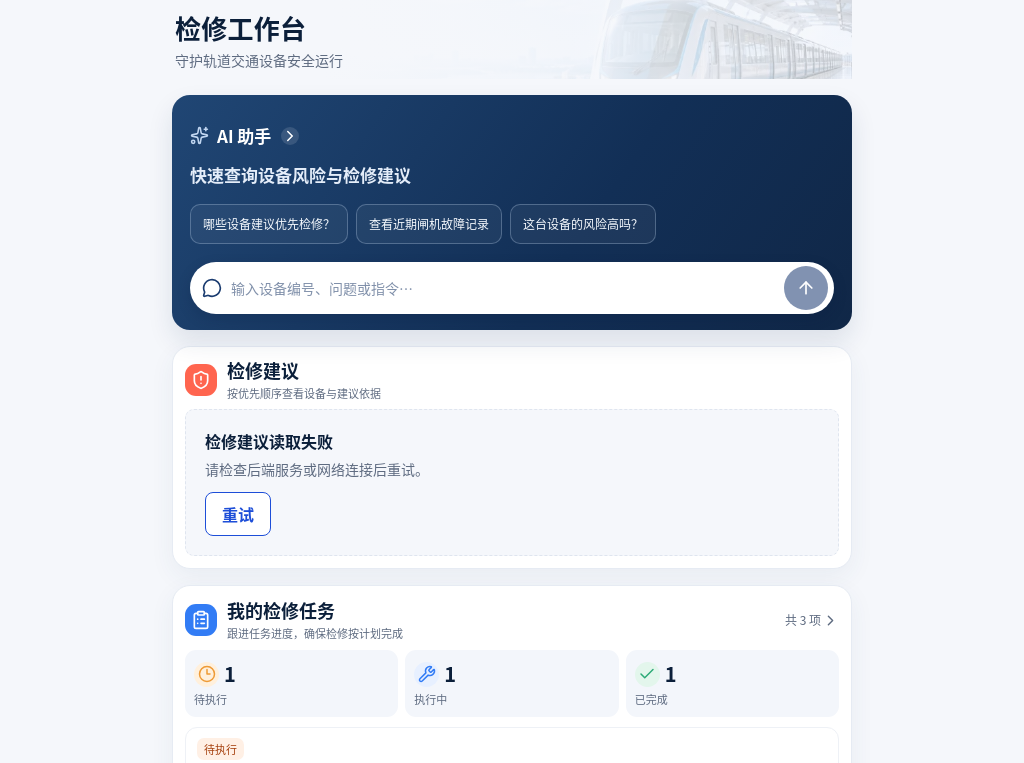
shows read failure and lets the user retry
This screenshot has width=1024, height=763.
Expected: the text "检修建议读取失败" is shown, [205,429,333,453]
Click the button "重试" at coordinates (238, 514), box [205,492,271,536]
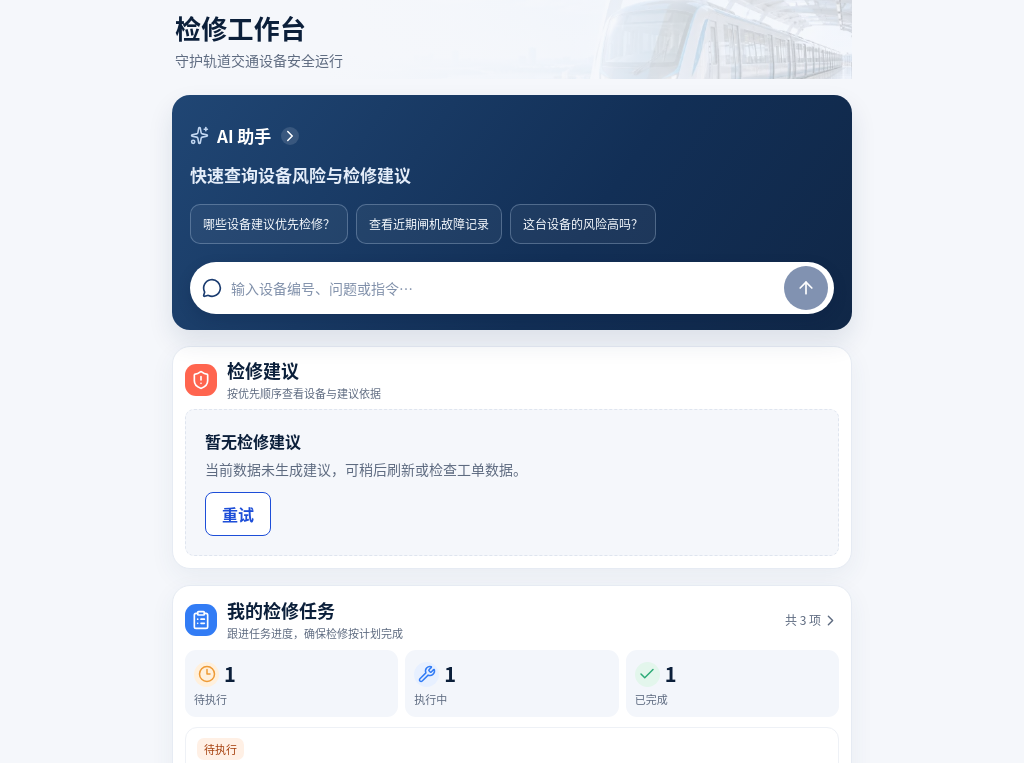
Expected: the text "暂无检修建议" is shown, [205,429,301,453]
